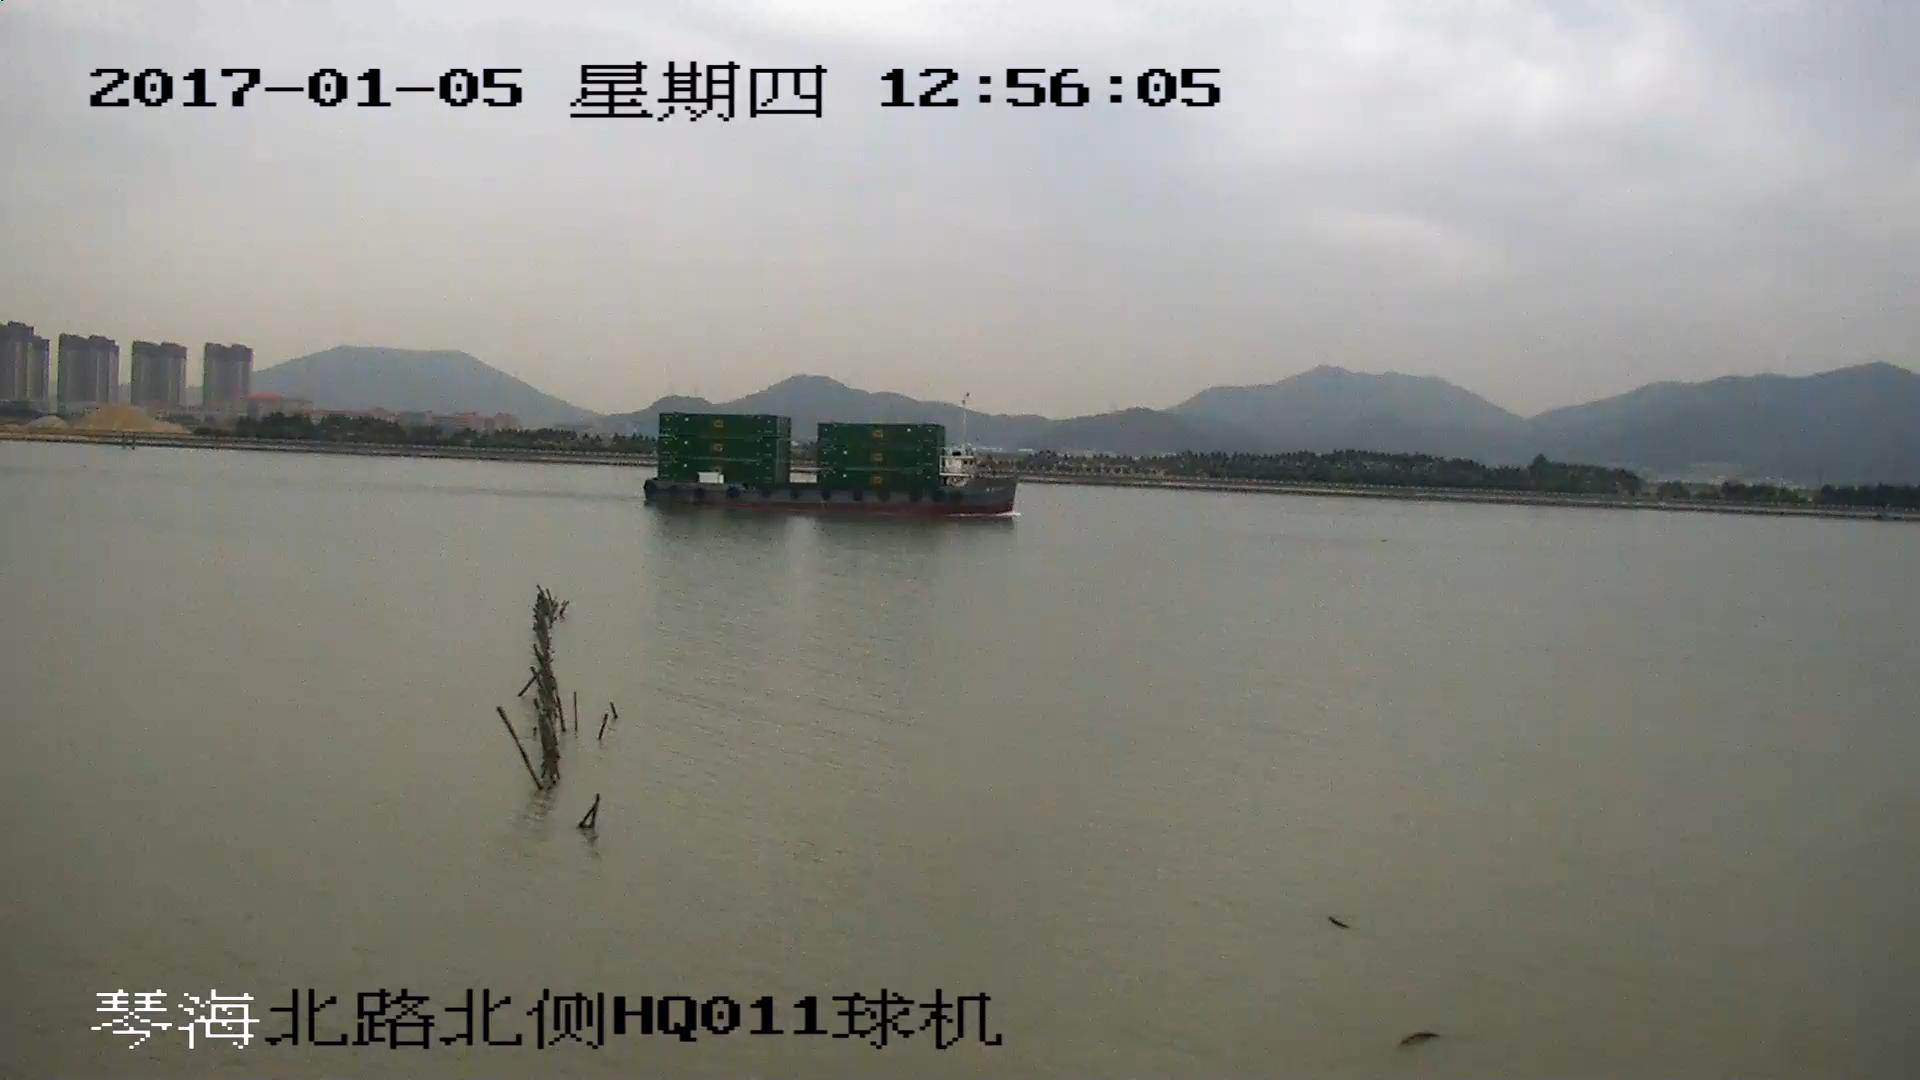container ship: (643, 416, 1014, 516)
